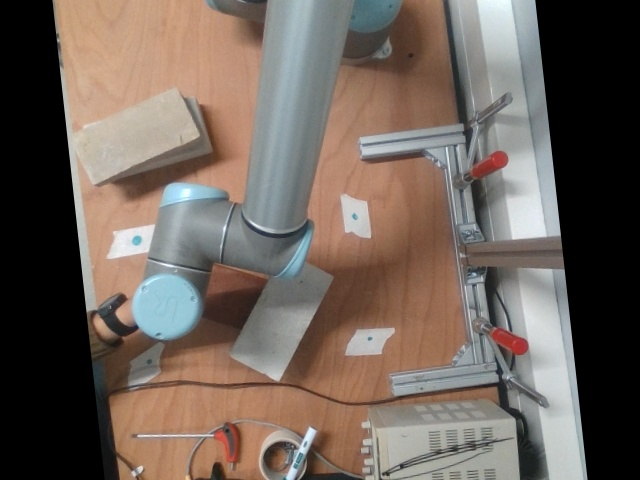brick: (72, 87, 200, 186)
